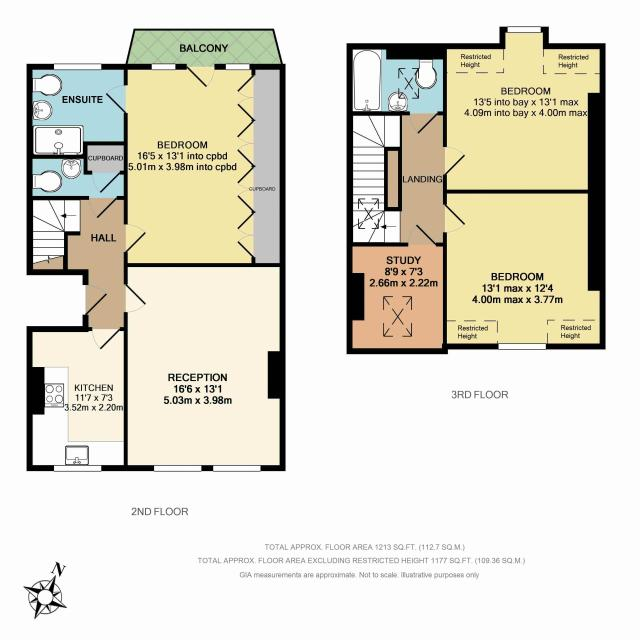DOOR: (82, 283, 109, 317), (406, 222, 437, 247), (408, 111, 439, 136), (104, 83, 128, 115), (123, 283, 148, 313), (443, 203, 467, 234), (443, 145, 467, 176), (90, 327, 121, 351), (124, 223, 148, 254), (87, 196, 118, 220), (186, 63, 215, 88)
ROOM: (104, 63, 286, 267), (123, 263, 286, 472), (443, 26, 606, 194), (443, 189, 606, 354), (26, 326, 128, 471)
WINDOW: (153, 464, 202, 472), (212, 464, 261, 472), (53, 464, 102, 472), (53, 63, 102, 71), (497, 343, 547, 350), (507, 26, 541, 33), (151, 63, 176, 71), (225, 63, 250, 71)
